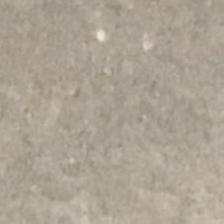Non_Crack: (21, 24, 224, 212)
